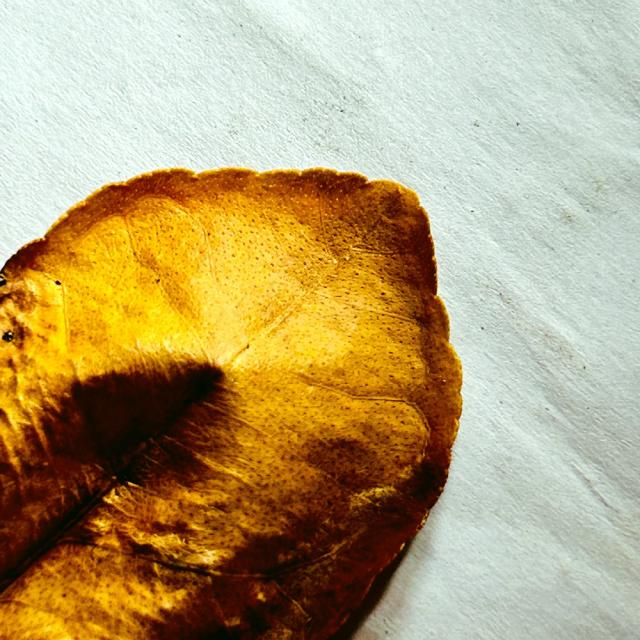DryLeaf_Lemon: (0, 168, 461, 639)
